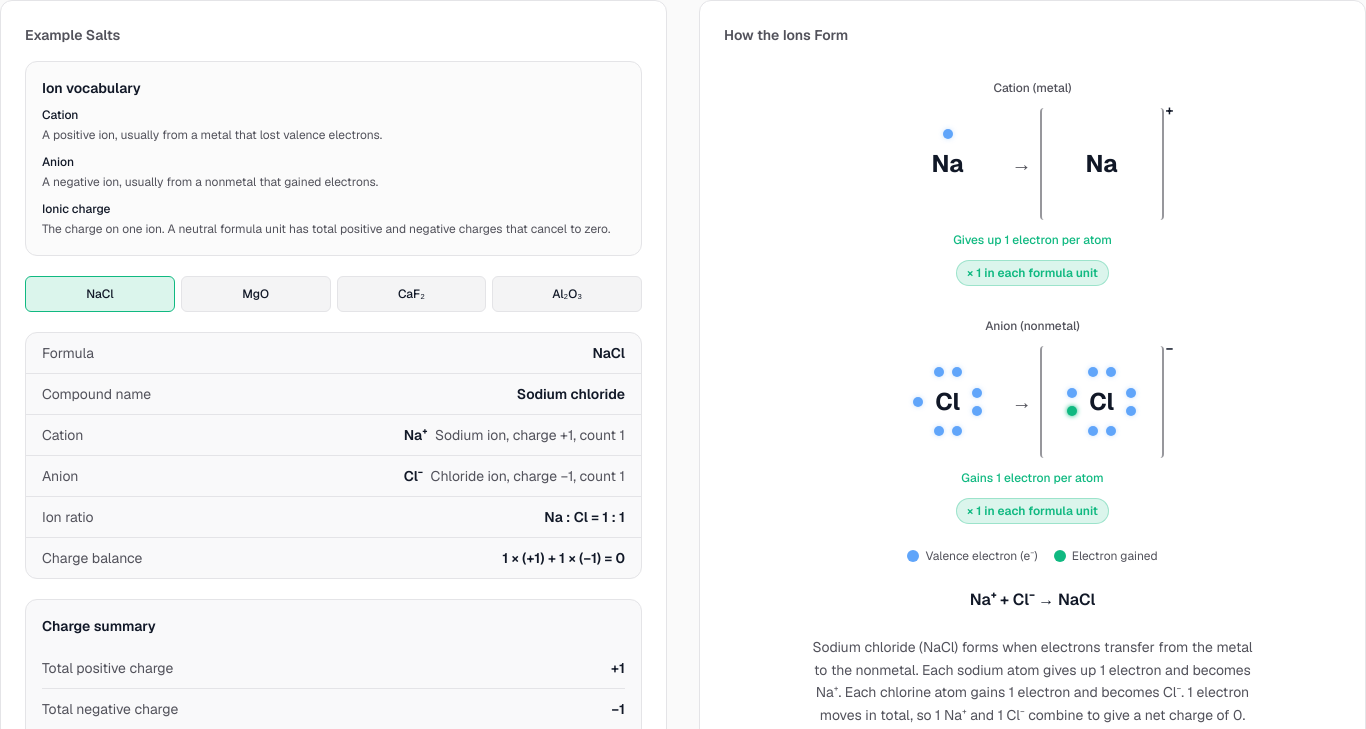
Test case: IonicCompoundExplorer › brackets and charges every ion of Aluminum oxide in the combined compound
The image size is (1366, 729).
Click the button with aria-label "Aluminum oxide, Al2O3": (567, 294) [492, 276, 642, 312]
(page scrolled)
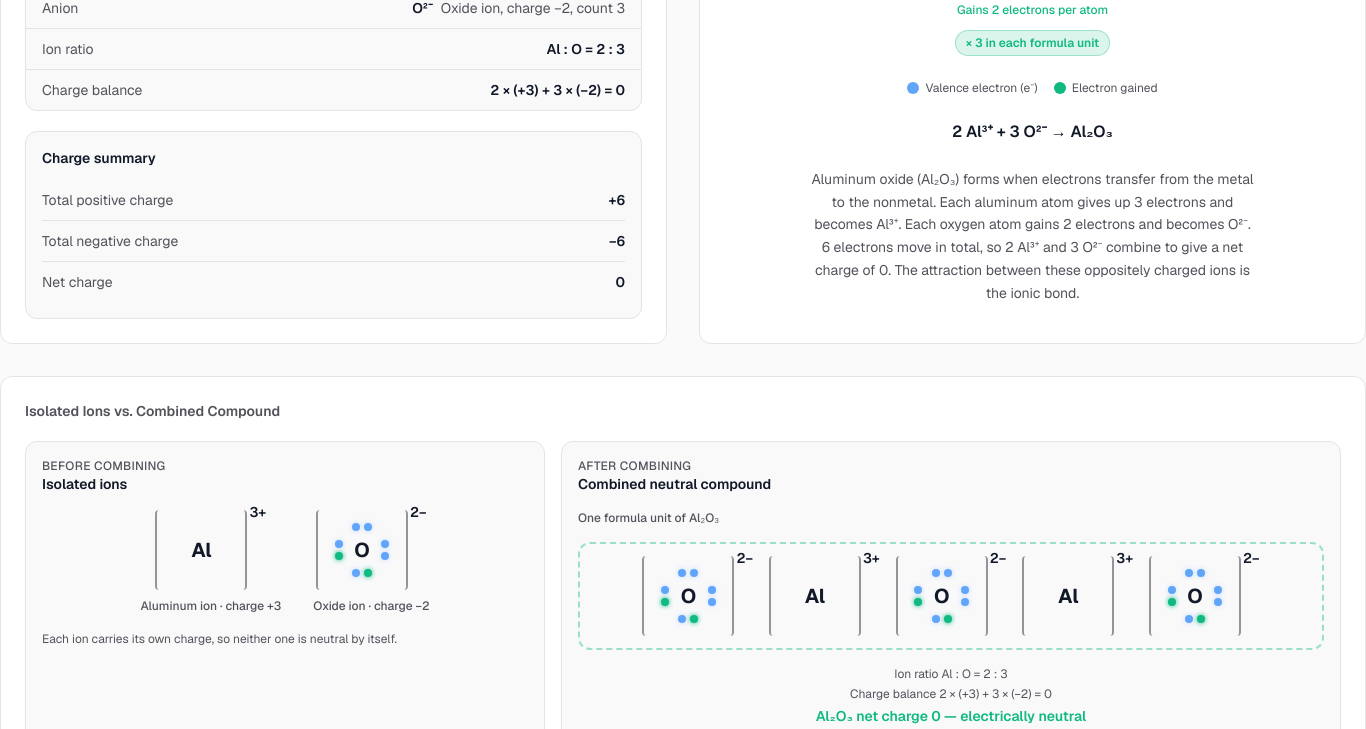
Expected: the 1st list item "Al 3+" is shown, [769, 556, 880, 636]
Expected: the 2nd list item "Al 3+" is shown, [1022, 556, 1133, 636]
Expected: the 1st list item "O 2−" is shown, [642, 556, 753, 636]
